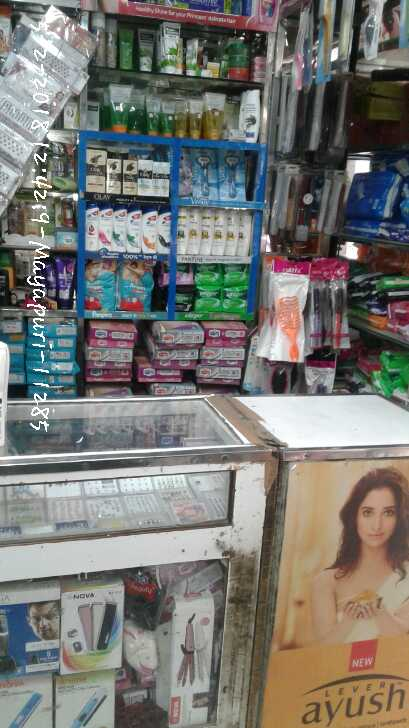venus: (218, 151, 246, 200), (192, 150, 218, 200)
